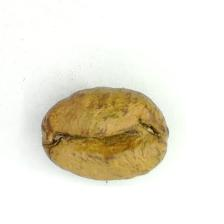NG: (46, 87, 165, 173)
